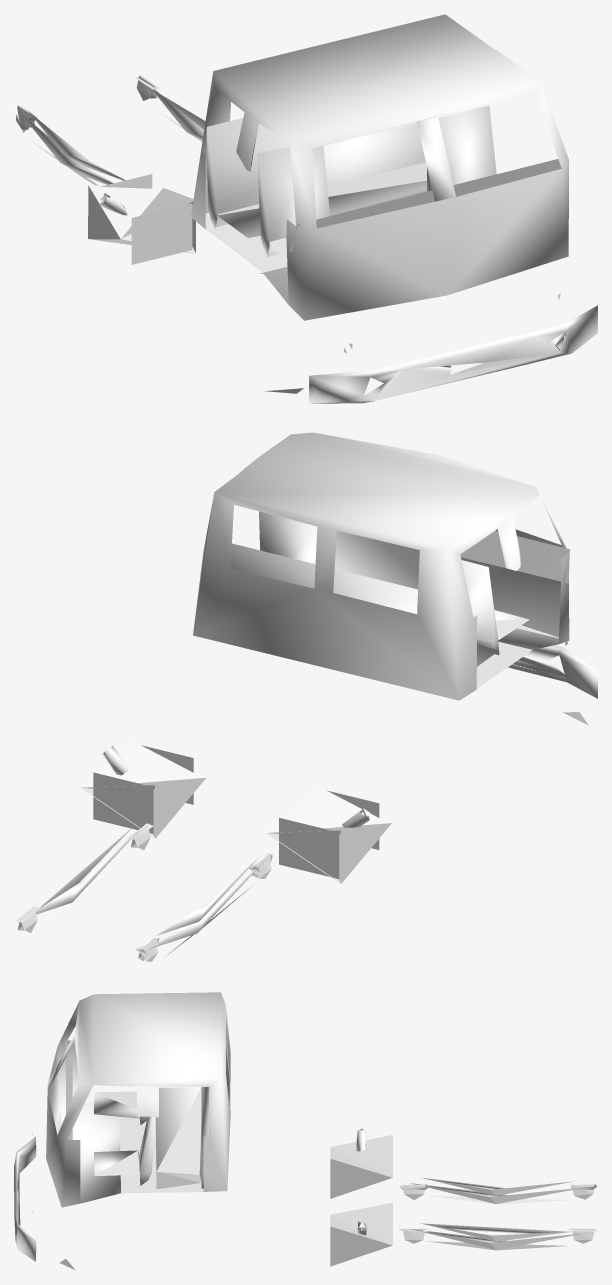
3 views of the same model, one above another, from view 1: azimuth 30°, elevation 25°; view 2: azimuth 150°, elevation 25°; view 3: azimuth 270°, elevation 25° (orthographic). The views are drawn at different scales.
Size of the model in its own units: 3.02 by 2.29 by 6.32.
Materials: 1 (1 with a texture image).
